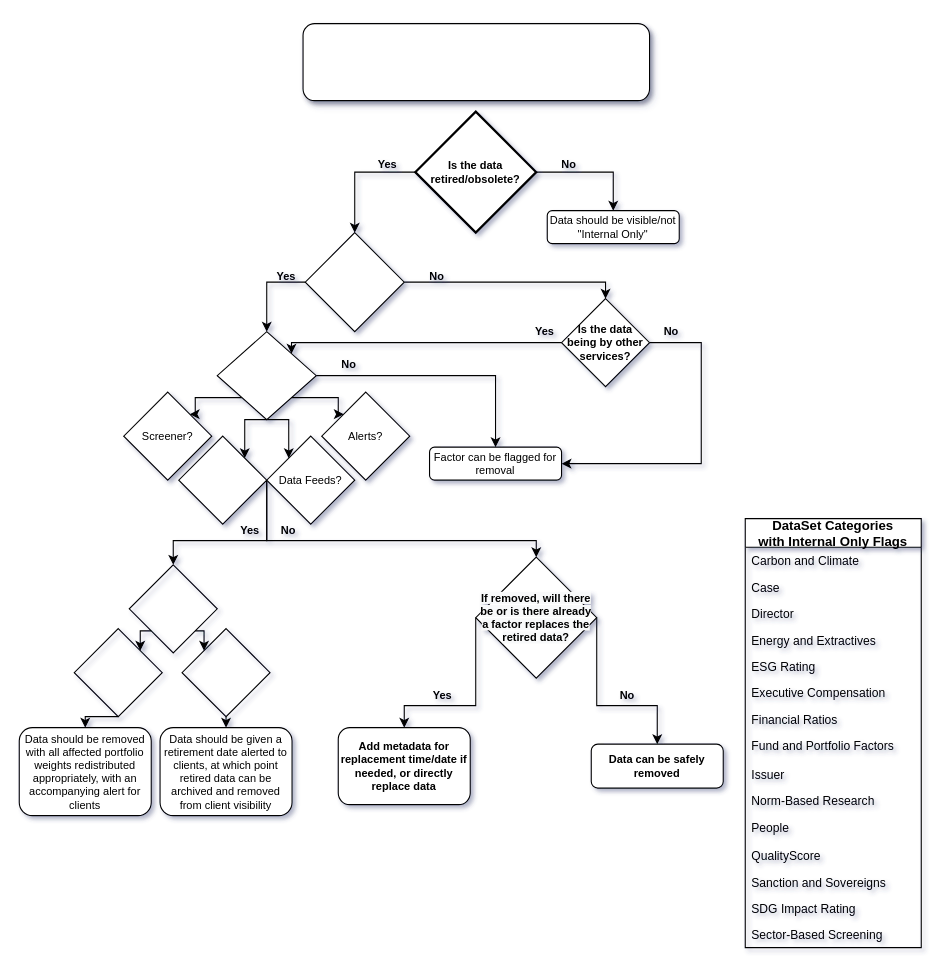
Image size: 947x977. Some labels were removed from this diagram. Here are the shapes that lost their labels. From the top down, the centre of each, then its label:
At [477,63]: "Retiring and Removing Data from DataDesk Platform".
At [354,282]: "Is the data visible?".
At [266,375]: "Is the data currently active in".
At [222,479]: "Portfolio Analytics?".
At [172,608]: "Is the data".
At [117,672]: "Obsolete and no longer valid?".
At [225,672]: "Retired but still valid?".
